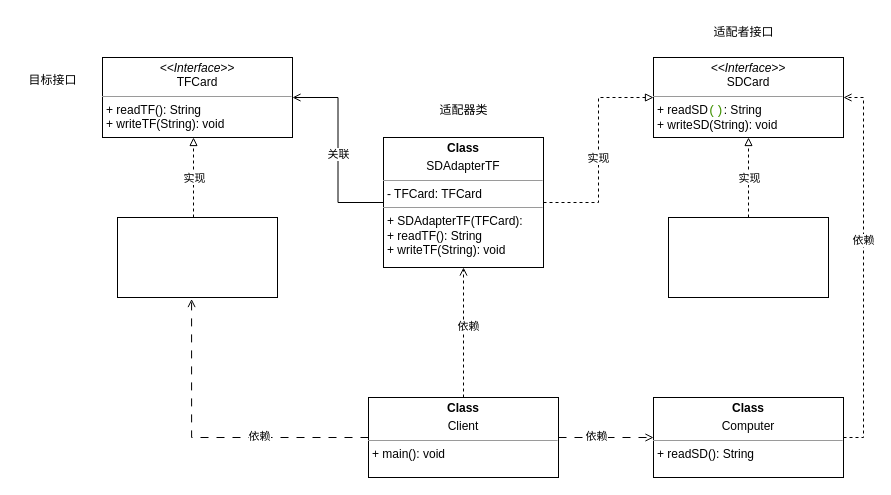
Image size: 891x495. Some labels were removed from this diagram. Each missing label, with the centre of its shape:
"Class SDCardImpl + readSD() : String + writeSD (String): void" goes at (x=748, y=257).
"Class TFCardImpl + readTF() : String + writeTF (String): void" goes at (x=197, y=257).
